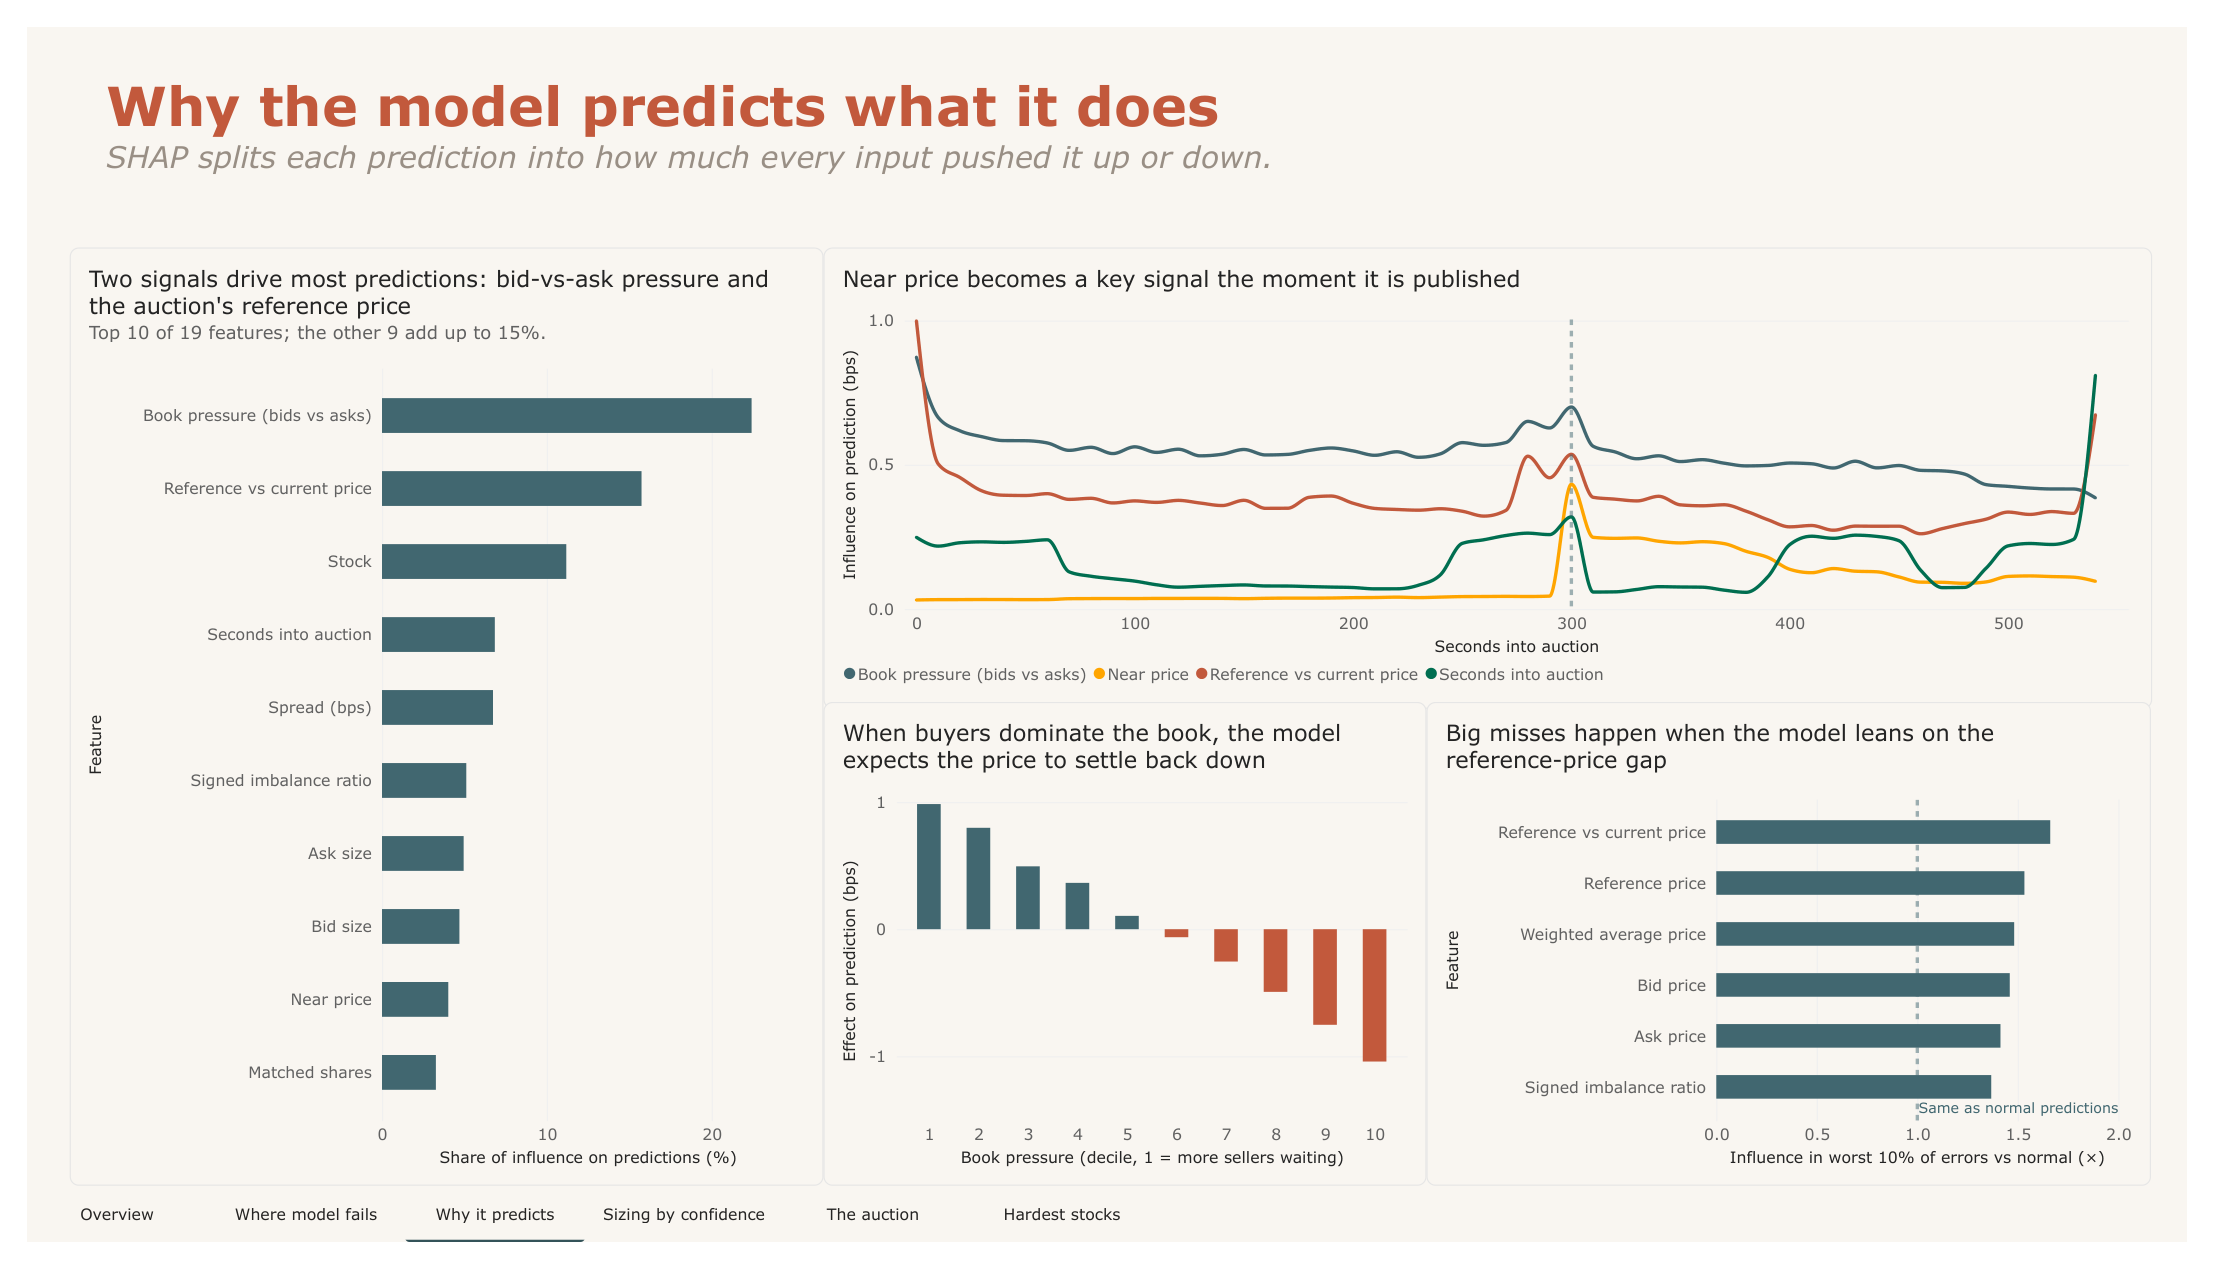

What the dashboard file says about the page in this screenshot:
{"tool":"powerbi","page":{"name":"Why it predicts","canvas":[1920,1080],"ordinal":2},"visuals":[{"type":"textbox","box":[70,40,1750,156],"z":0},{"type":"clusteredBarChart","title":"Two signals drive most predictions: bid-vs-ask pressure and the auction''s reference price","fields":{"Category":["feature_names.label"],"Y":["Avg(shap_global.share_pct)"]},"box":[38,196,670,834],"z":1000},{"type":"lineChart","title":"Near price becomes a key signal the moment it is published","fields":{"Category":["shap_by_second.auction_second"],"Series":["feature_names.label"],"Y":["Avg(shap_by_second.mean_abs_shap)"]},"box":[707.5,196.2,1181.1,409.4],"z":2000},{"type":"clusteredColumnChart","title":"When buyers dominate the book, the model expects the price to settle back down","fields":{"Category":["shap_dependence.decile"],"Y":["Avg(shap_dependence.mean_shap)"]},"box":[708,600,536,430],"z":3000},{"type":"clusteredBarChart","title":"Big misses happen when the model leans on the reference-price gap","fields":{"Category":["feature_names.label"],"Y":["Avg(shap_big_errors.ratio)"]},"box":[1244,600,644,430],"z":4000},{"type":"pageNavigator","box":[0,1030,1000,50],"z":4001}]}

Visuals, with their boxes in screenshot pixels (x1, y1, x2, y2), scaled from the page's 1920x1080 canvas onto the 2214x1269 screenshot:
textbox: locate(81, 47, 2099, 230)
"Two signals drive most predictions: bid-vs-ask pressure and the auction''s reference price" clusteredBarChart: locate(44, 230, 816, 1210)
"Near price becomes a key signal the moment it is published" lineChart: locate(816, 231, 2178, 712)
"When buyers dominate the book, the model expects the price to settle back down" clusteredColumnChart: locate(816, 705, 1434, 1210)
"Big misses happen when the model leans on the reference-price gap" clusteredBarChart: locate(1434, 705, 2177, 1210)
pageNavigator: locate(0, 1210, 1153, 1268)
